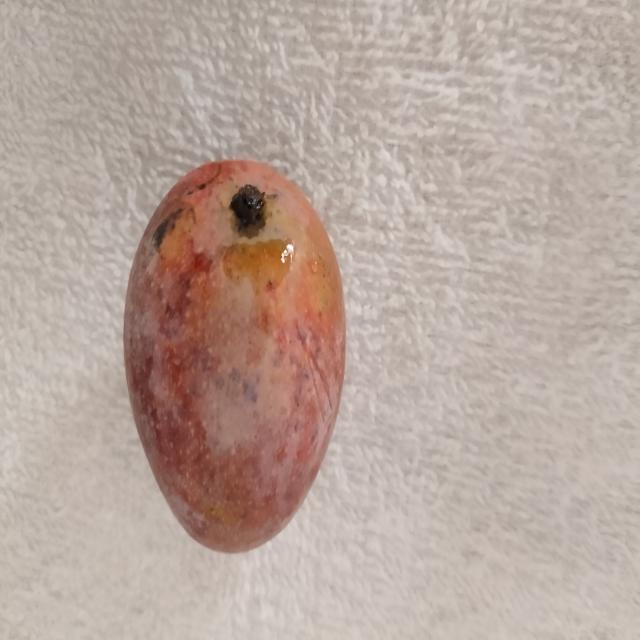mango: (121, 155, 348, 559)
